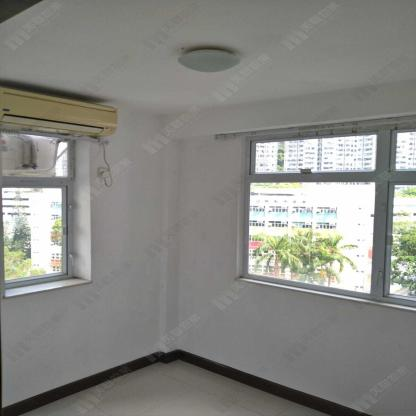AC: (0, 86, 120, 137)
